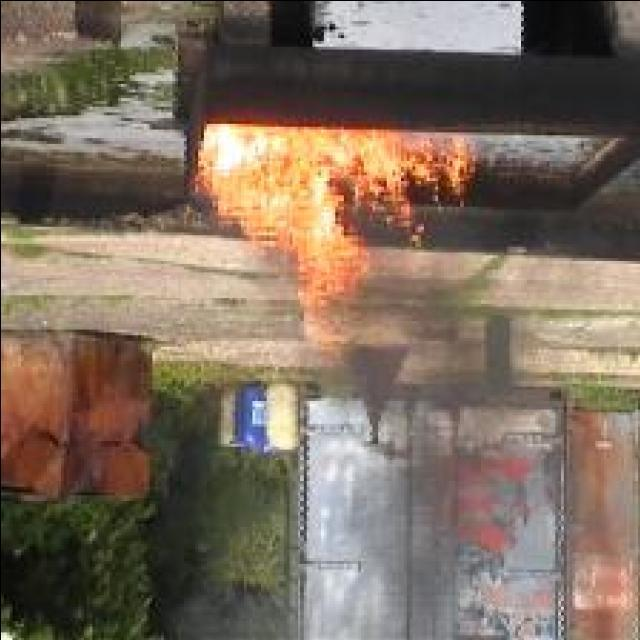Fire: (195, 123, 474, 366)
